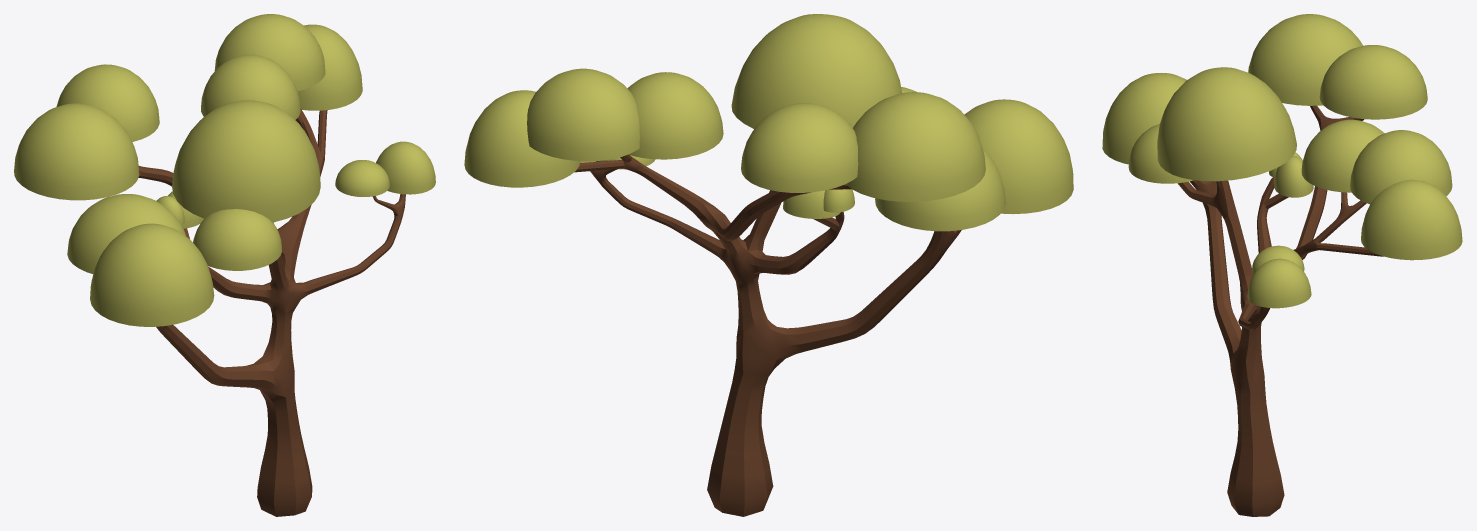
File: low_tree.glb
The picture shows the model from 3 angles, left to right: view 1: azimuth 30°, elevation 25°; view 2: azimuth 150°, elevation 25°; view 3: azimuth 270°, elevation 25°; orthographic projection. The views are drawn at different scales.
Parts seen in each view (by area): view 1: Vert; view 2: Vert; view 3: Vert.
Boxes of the visible parts, <box> form: Vert: <box>14,14,435,516</box>; Vert: <box>464,14,1073,516</box>; Vert: <box>1102,14,1462,516</box>.
Size of the model in its own units: 5.06 by 5.32 by 4.17.
